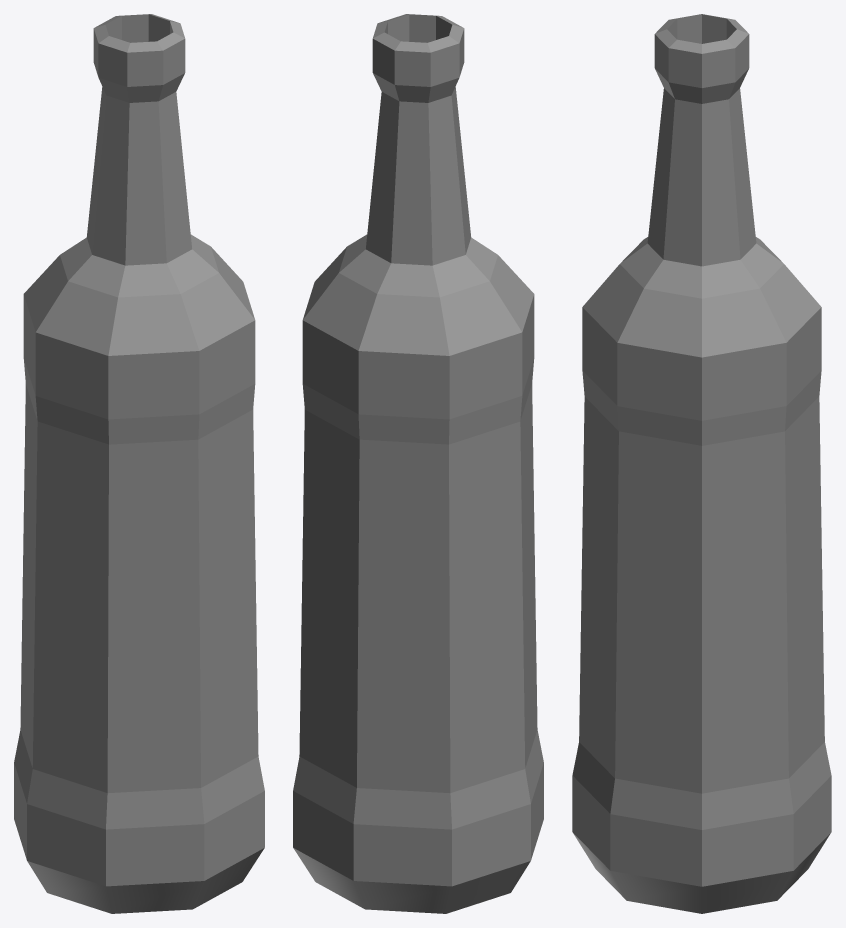
The model's file is Wine.FBX.
3 views of the same model, side by side, from view 1: azimuth 30°, elevation 25°; view 2: azimuth 150°, elevation 25°; view 3: azimuth 270°, elevation 25° (orthographic).
Parts seen in each view (by area): view 1: WineBottle001; view 2: WineBottle001; view 3: WineBottle001.
Part boxes in pixels (x1,y1,x2,y2): WineBottle001: (14, 14, 264, 913); WineBottle001: (293, 14, 543, 913); WineBottle001: (572, 14, 831, 913).
Size of the model in its own units: 43.23 by 155 by 43.23.
